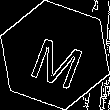M_N: (24, 23, 86, 87)
